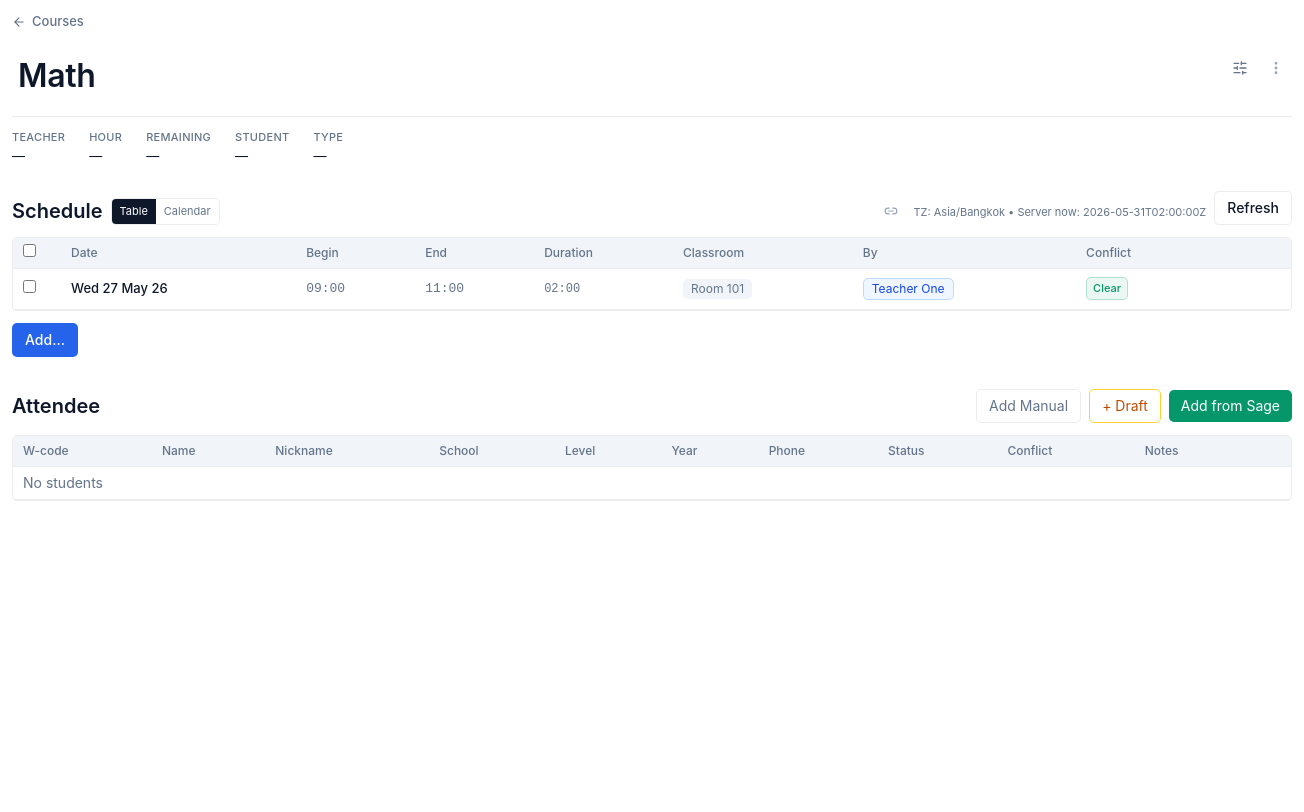
Scenario: CourseDetail calendar grid › merges all of a day's sessions into that day's column using institute timezone
Expected: the button "Add…" is shown, [12,322,78,356]
Click the button "Calendar": (187, 211) [156,199,219,224]
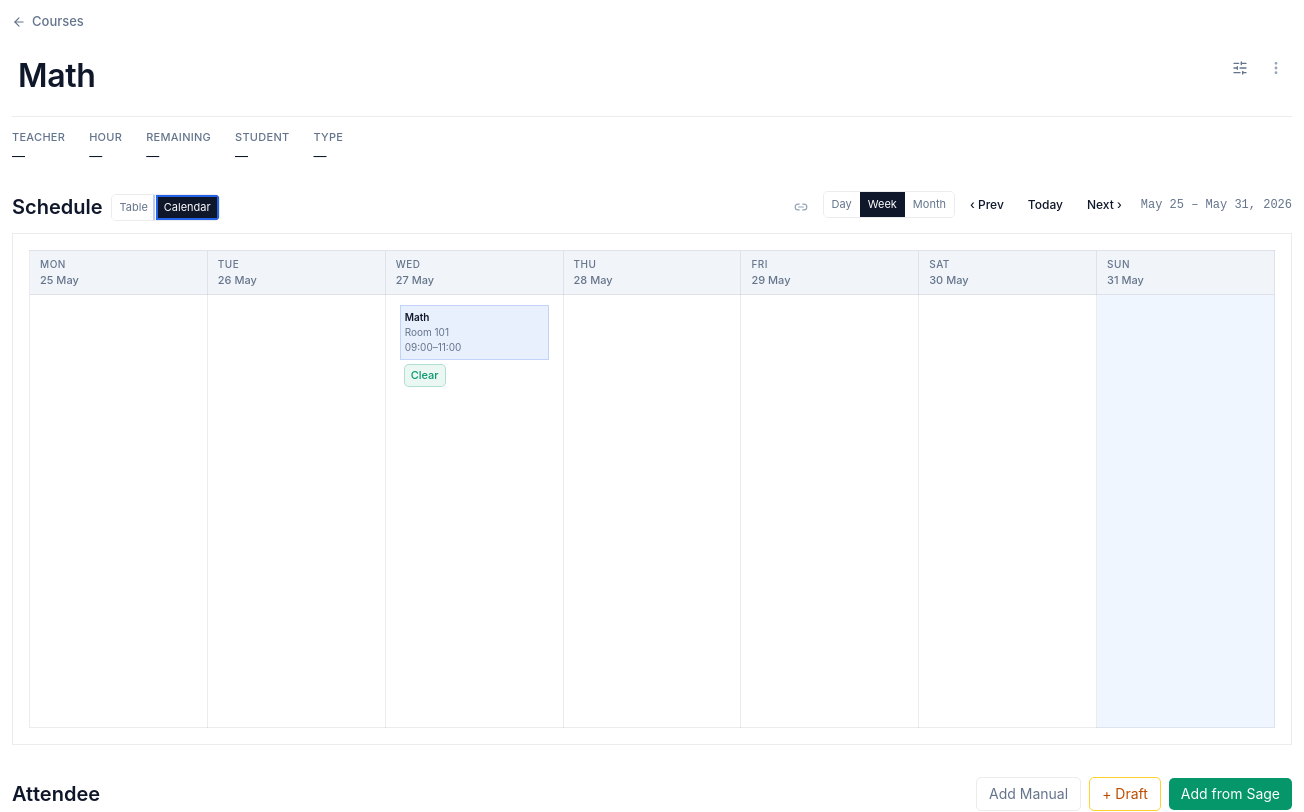
Expected: the text "Room 101" is shown, [405,326,449,338]
Now the text "09:00–11:00" is shown, box [405,341,461,353]
